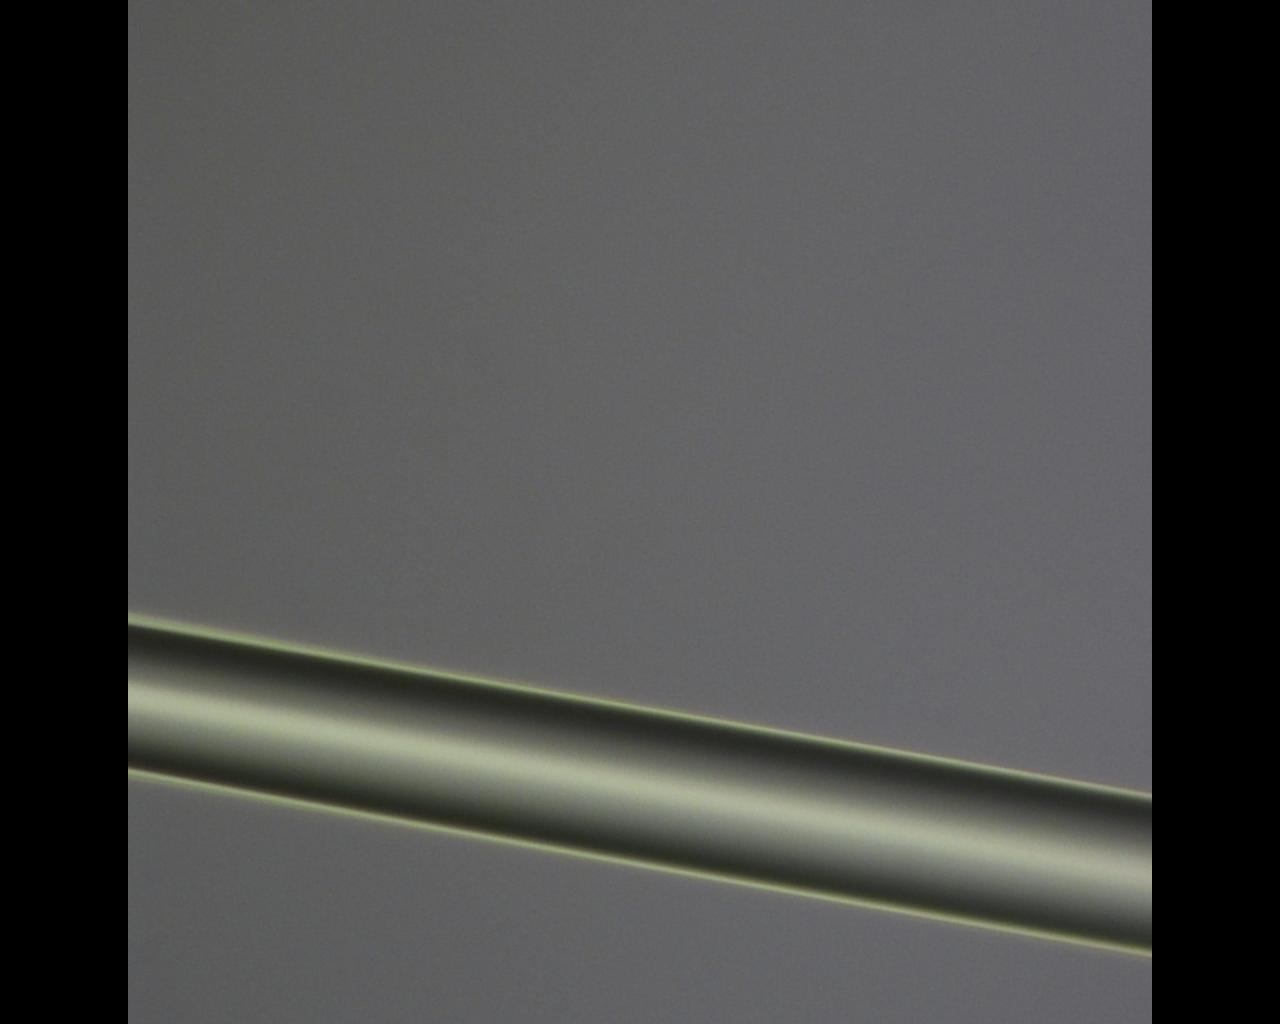fiber: (385, 630, 1280, 728), (0, 297, 385, 445), (0, 899, 264, 986)
